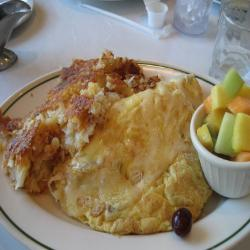omelette: (76, 94, 204, 230)
